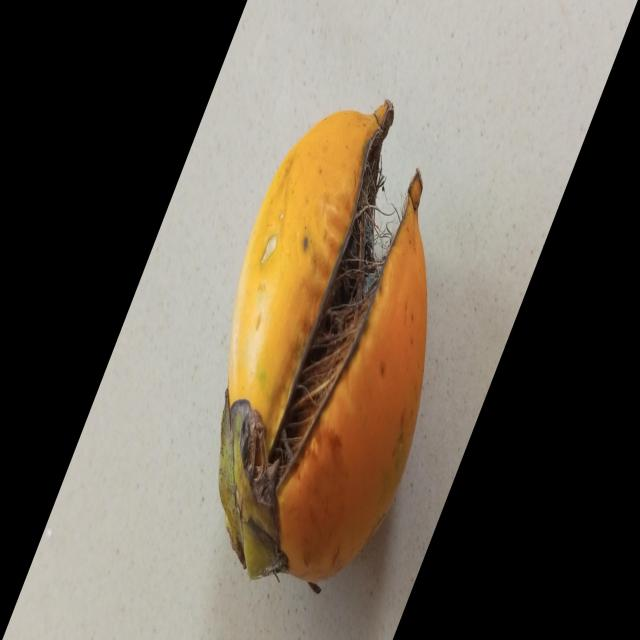damaged: (219, 100, 427, 593)
